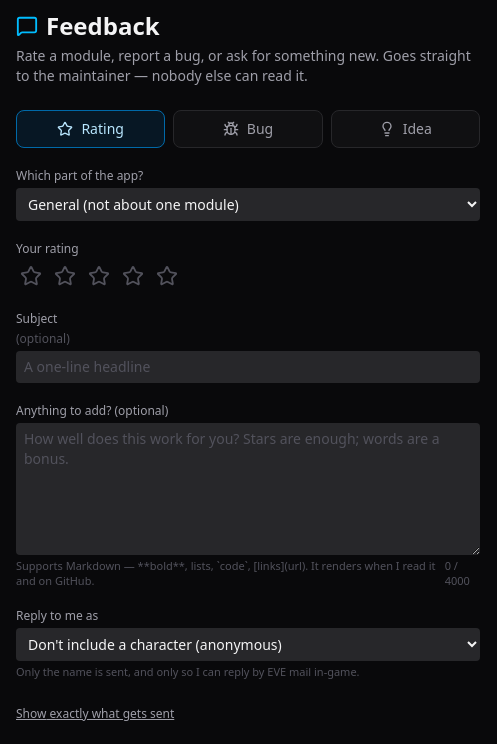
Test: FeedbackPage › won't send a bug report with no words
Click the button "Bug" at [248, 129], box [173,110,323,148]
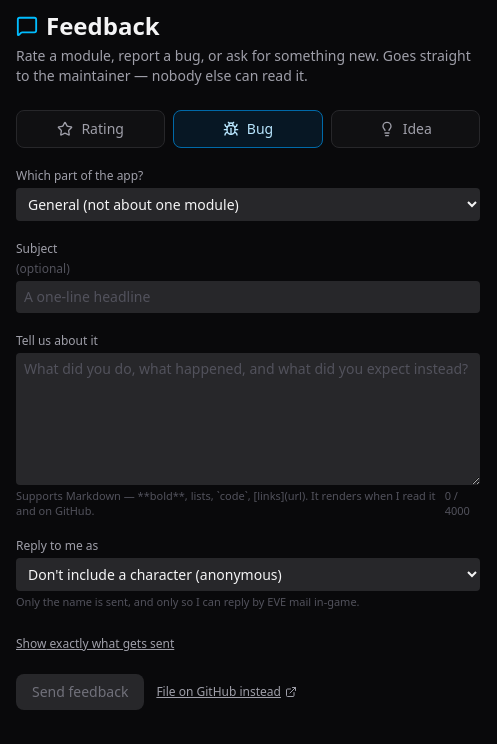
expect the button "Send feedback" is disabled: met, box [16,674,144,710]
Replace the text in the text box labelled "Tell us about it" with "it exploded" at [248, 419], box [16,353,480,485]
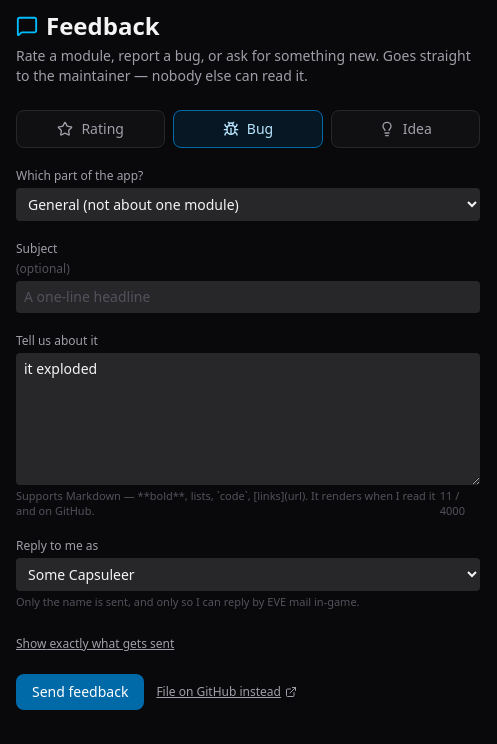
expect the button "Send feedback" is enabled: met, box [16,674,144,710]
